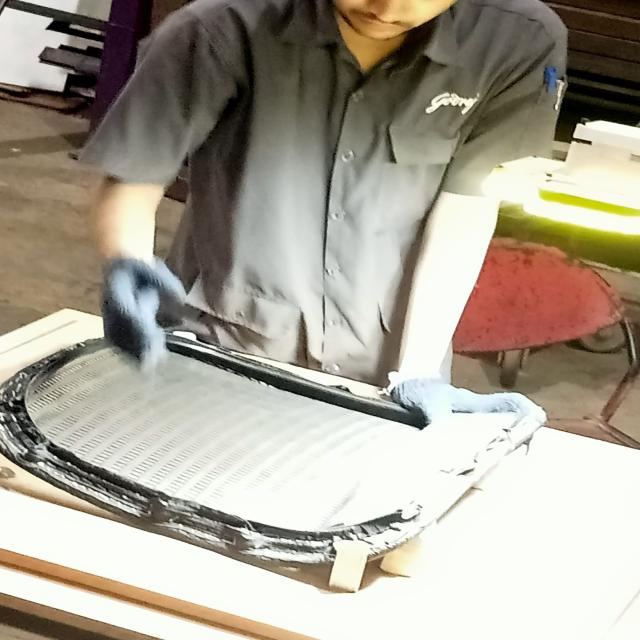Gloves-Detection: (96, 256, 186, 350)
